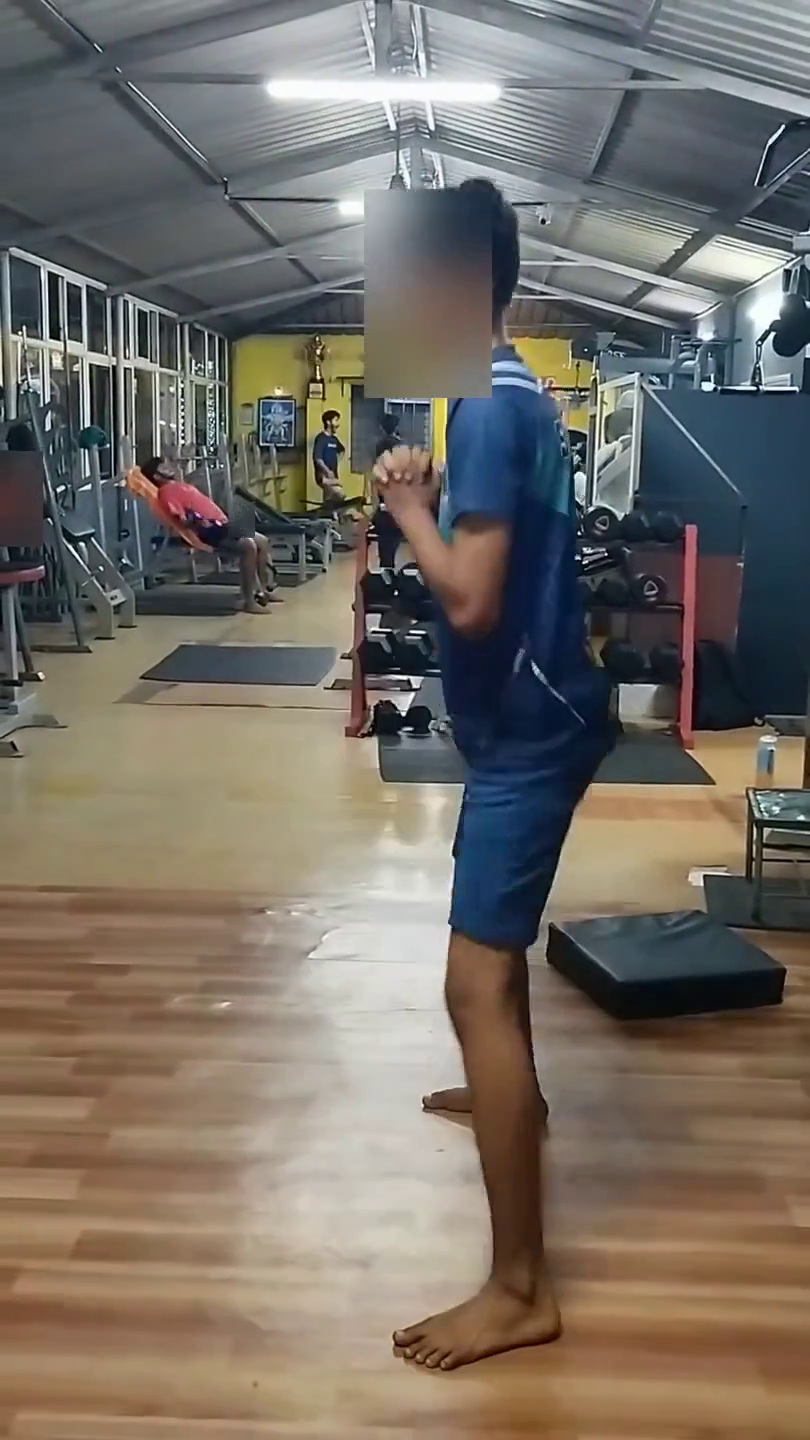squat_correct: (275, 168, 649, 1425)
